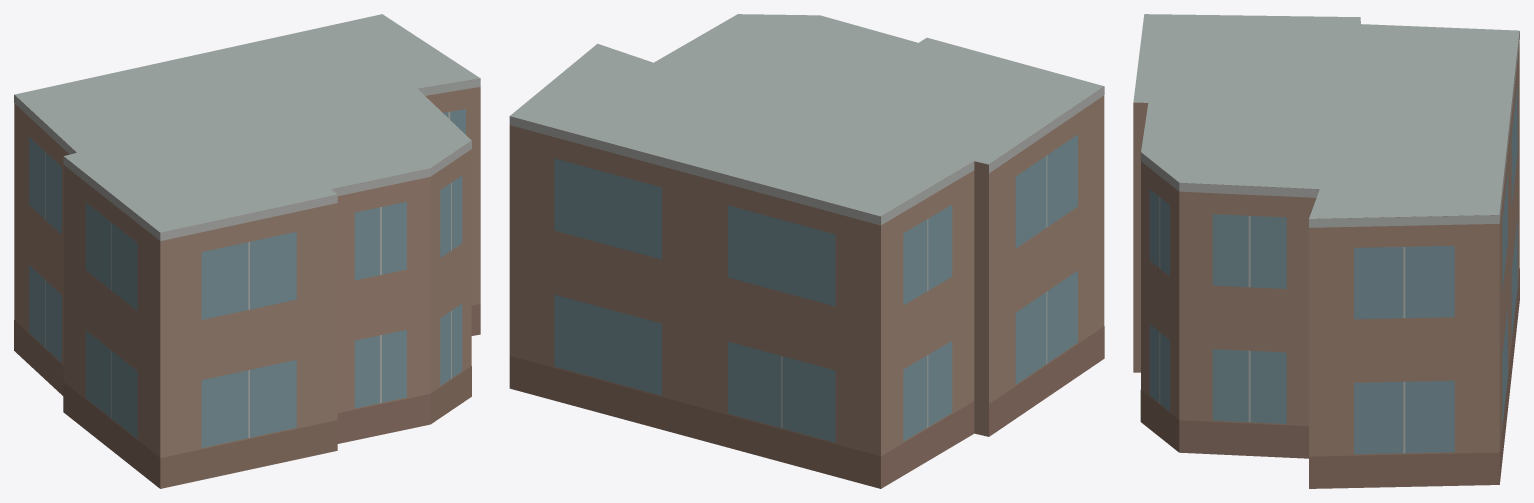
File: survey-upis-32496195.glb
The picture shows the model from 3 angles, left to right: view 1: azimuth 30°, elevation 25°; view 2: azimuth 150°, elevation 25°; view 3: azimuth 270°, elevation 25°; orthographic projection. The views are drawn at different scales.
Visible parts, largest first — view 1: survey-upis-32496195.tmp; view 2: survey-upis-32496195.tmp; view 3: survey-upis-32496195.tmp.
Boxes of the visible parts, left/top/right/bottom form: survey-upis-32496195.tmp: left=14, top=14, right=480, bottom=488; survey-upis-32496195.tmp: left=509, top=14, right=1104, bottom=488; survey-upis-32496195.tmp: left=1133, top=14, right=1519, bottom=488.
Bounding box in the file's own units: 12.06 × 7.4 × 9.61.
